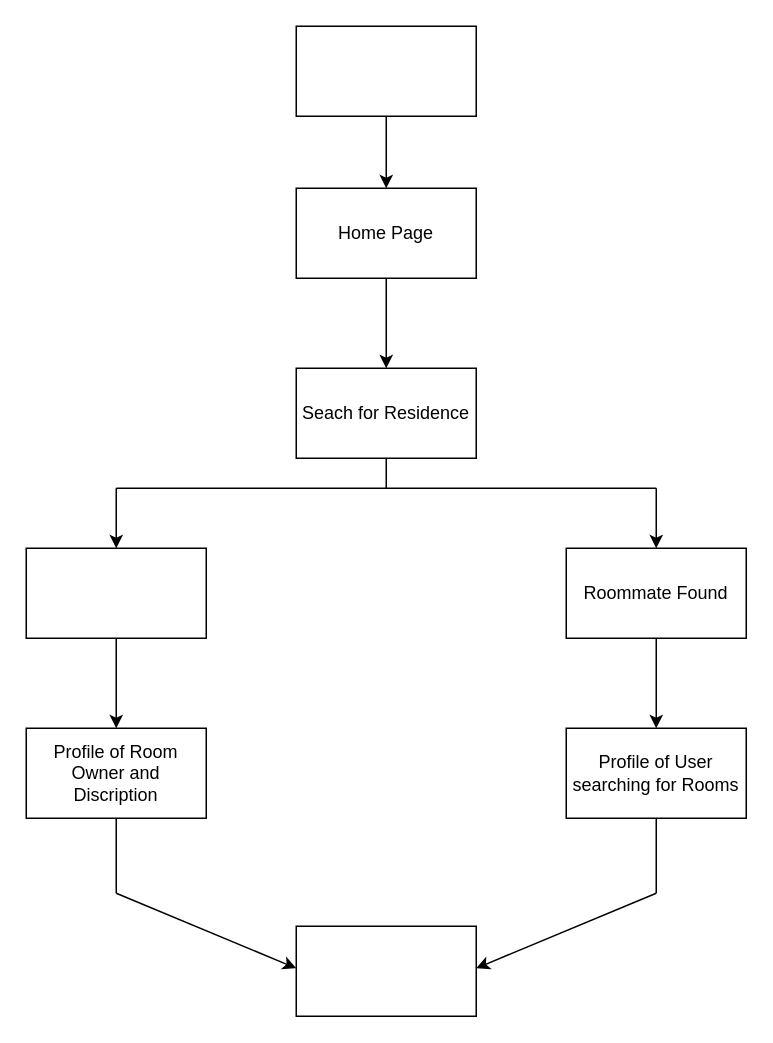
Some shapes in this 773 by 1043 pixel diagram are drawn without their labels. The shapes that lost their labels are listed below. From the top down, each one's centre as x and y in pixels, then its label:
the point at 385,70: Sign In
the point at 115,592: Room Found
the point at 385,970: Get in Contact with Other Party
